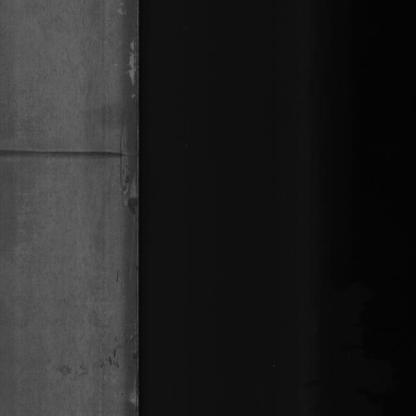crease: (0, 136, 130, 177)
